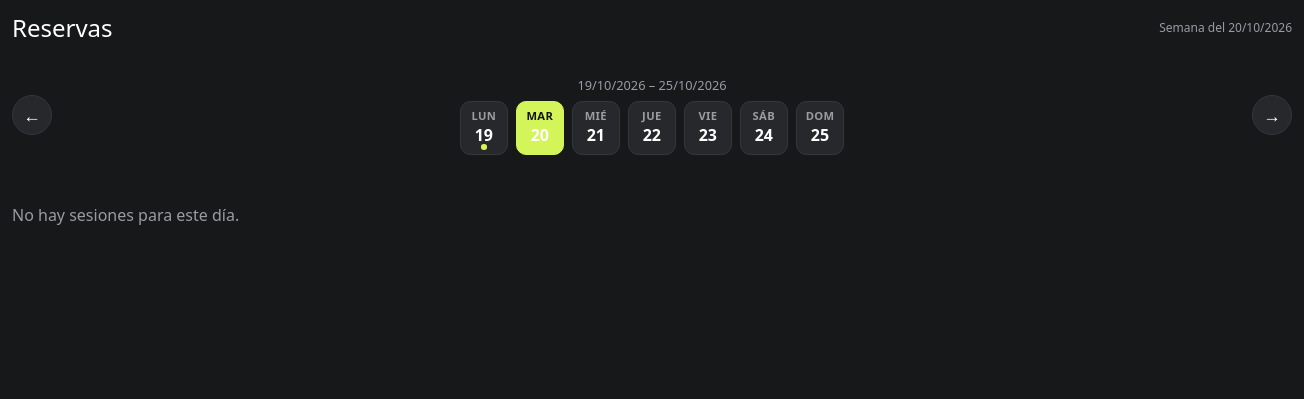
Test case: ClassesPage (reservas del socio) › muestra la sesión del día con sala y plazas libres
This screenshot has width=1304, height=399.
Step 1. Click the button "Lun 19" → {"x": 484, "y": 128}, box [460,101,508,155]
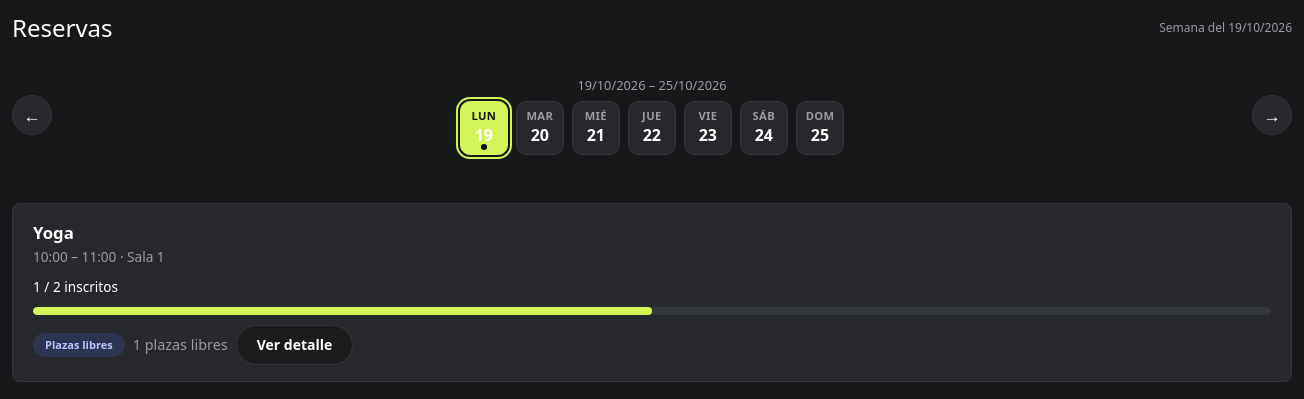
Expected: the heading "Yoga" is shown, [33,221,74,244]
Expected: the text "10:00 – 11:00 · Sala 1" is shown, [33,247,165,266]
Expected: the text "1 plazas libres" is shown, [133,334,228,356]
